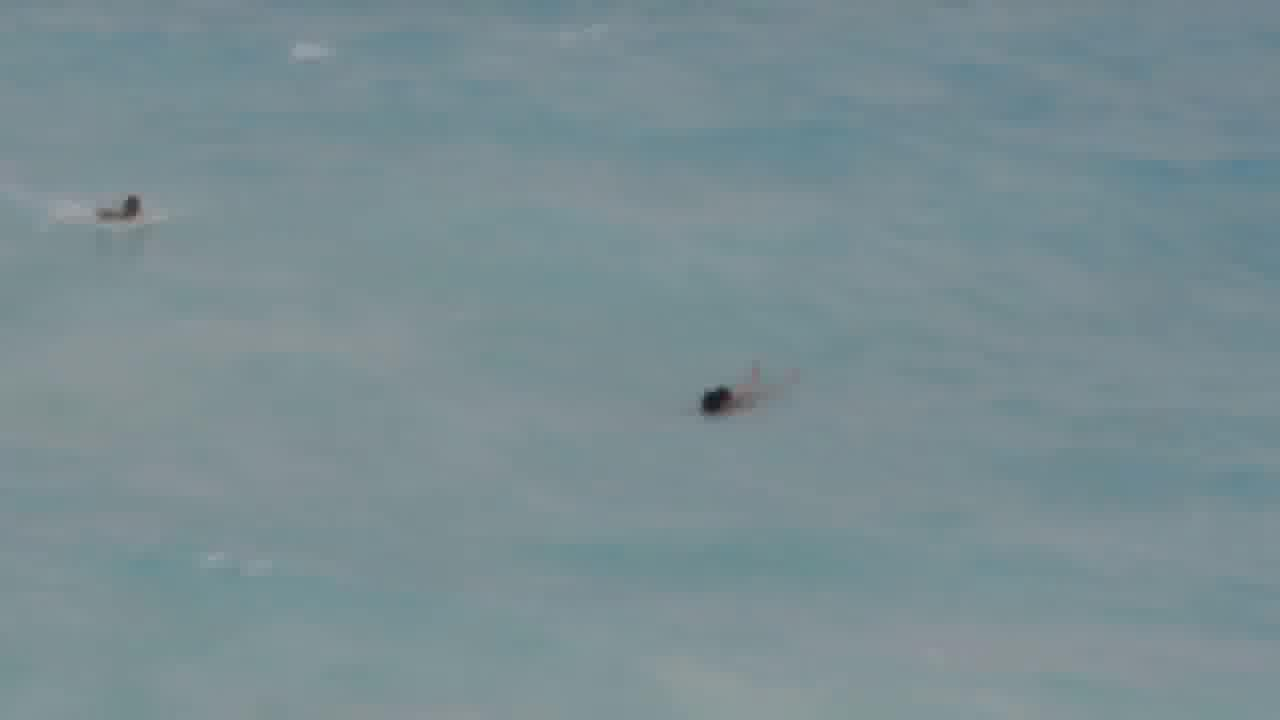swimmer: (687, 360, 786, 422), (74, 190, 162, 229)
